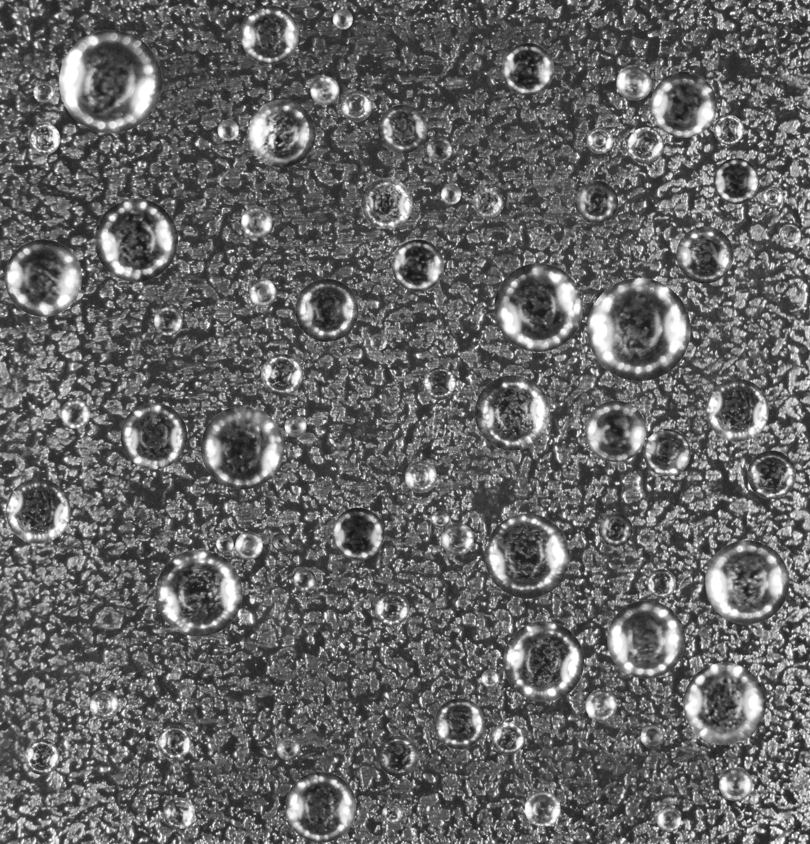Bubble: (59, 30, 162, 133), (587, 278, 690, 381), (494, 263, 582, 351), (155, 549, 242, 636), (484, 513, 569, 598), (705, 540, 789, 624), (94, 198, 177, 281), (200, 406, 283, 489), (683, 662, 765, 745), (503, 621, 584, 701), (607, 600, 685, 678), (4, 239, 81, 316), (474, 375, 550, 450), (285, 771, 356, 842), (247, 99, 315, 167), (120, 402, 187, 469), (651, 71, 716, 137), (5, 478, 70, 543), (706, 378, 769, 441), (295, 278, 358, 341), (585, 400, 646, 461), (240, 5, 299, 64), (676, 226, 733, 283), (501, 43, 554, 95), (391, 239, 443, 291), (332, 507, 384, 559), (361, 177, 412, 228), (434, 698, 484, 749), (747, 450, 796, 499), (378, 104, 427, 153), (643, 429, 690, 476), (713, 158, 759, 204), (575, 180, 618, 223), (377, 735, 418, 776), (261, 354, 302, 395), (627, 127, 664, 163), (616, 64, 652, 100), (524, 791, 560, 826), (24, 740, 59, 774), (157, 725, 191, 759), (598, 512, 632, 546), (375, 591, 409, 625), (719, 767, 752, 801), (423, 367, 456, 400), (491, 722, 524, 754), (585, 689, 617, 721), (441, 523, 473, 555), (163, 797, 194, 829), (28, 123, 60, 154), (472, 186, 504, 217), (405, 461, 436, 492), (241, 206, 272, 237), (341, 90, 371, 121), (60, 399, 90, 428), (310, 76, 339, 105), (89, 690, 118, 719), (714, 115, 743, 144), (647, 569, 676, 597), (154, 307, 182, 335), (235, 531, 262, 559), (249, 279, 276, 306), (586, 127, 613, 153), (656, 807, 681, 832), (427, 137, 451, 162), (640, 724, 664, 748), (276, 737, 299, 760), (293, 569, 315, 591), (284, 415, 306, 437), (780, 224, 801, 245), (762, 186, 783, 207), (217, 119, 238, 140), (33, 81, 54, 102), (381, 803, 402, 823), (441, 184, 461, 204), (332, 9, 352, 29), (431, 508, 450, 527), (481, 669, 499, 687), (271, 532, 289, 550), (216, 535, 233, 552), (370, 333, 387, 350)
